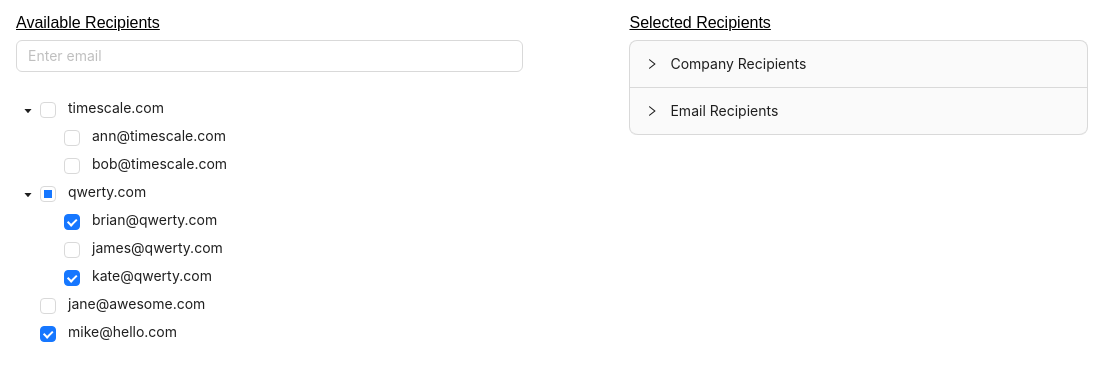
Test case: EmailManager.vue › allows adding a valid email
This screenshot has width=1105, height=387.
In the field with placeholder "Enter email": (269, 56) [16, 40, 523, 72], type "newuser@example.com"
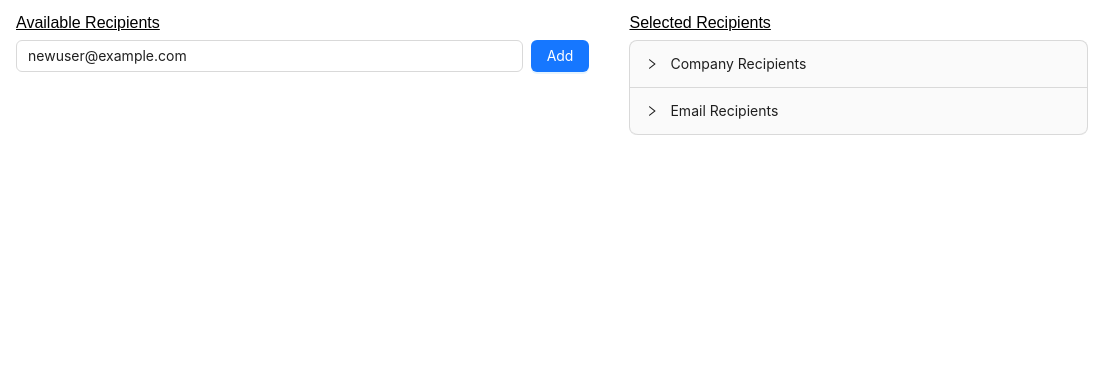
Click the button "Add": (560, 56) [531, 40, 589, 72]
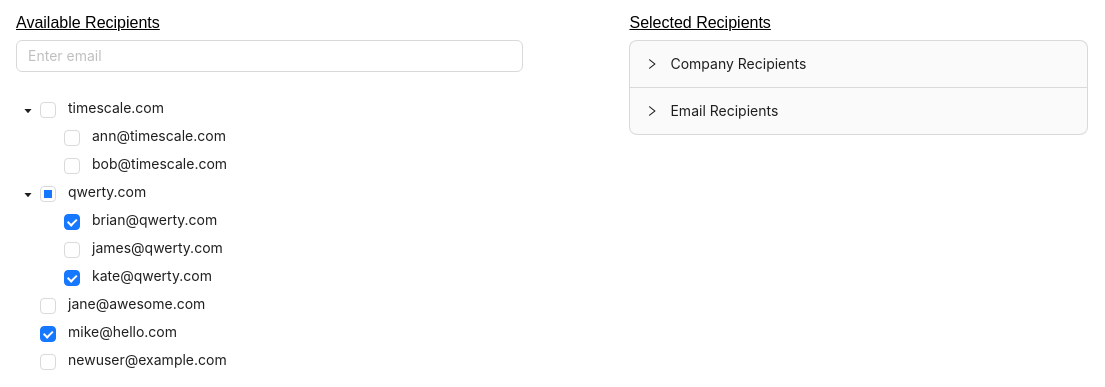
Expected: the text "newuser@example.com" is shown, [68, 351, 227, 368]
